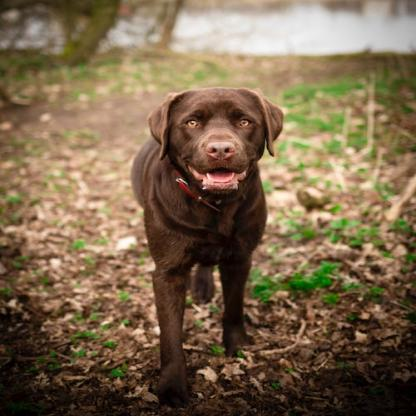dog: (130, 86, 285, 400)
